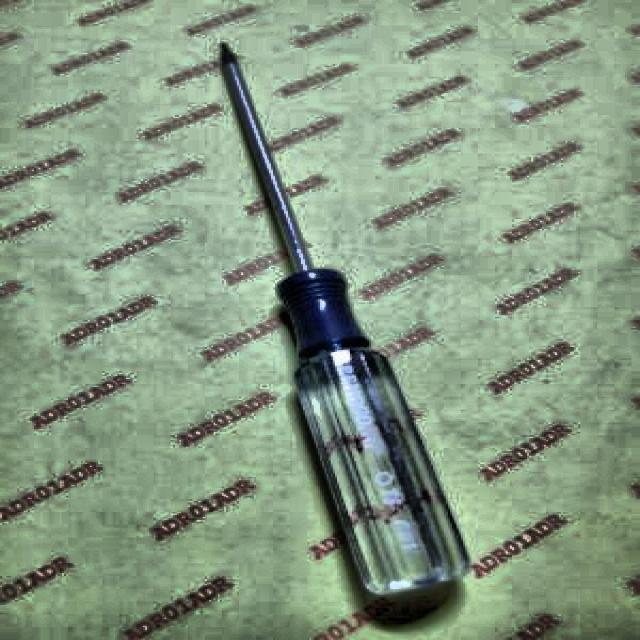screwdriver: (218, 42, 470, 597)
